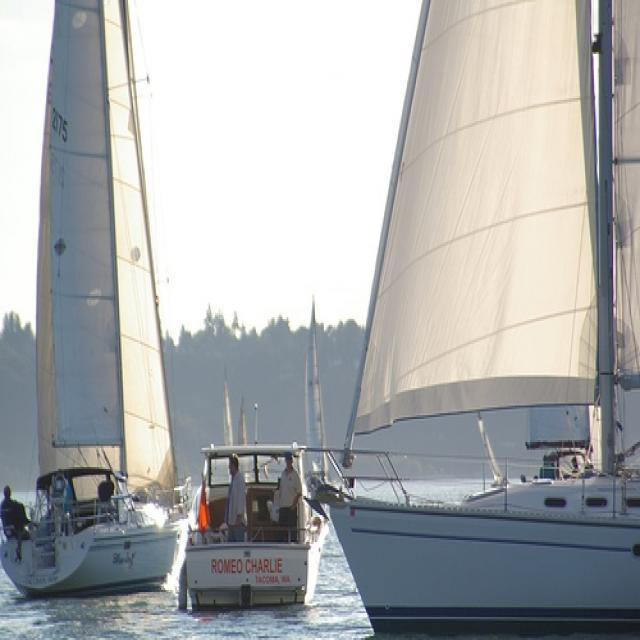Ship: (335, 1, 636, 631), (10, 2, 199, 612), (286, 299, 337, 503), (209, 367, 257, 446)
